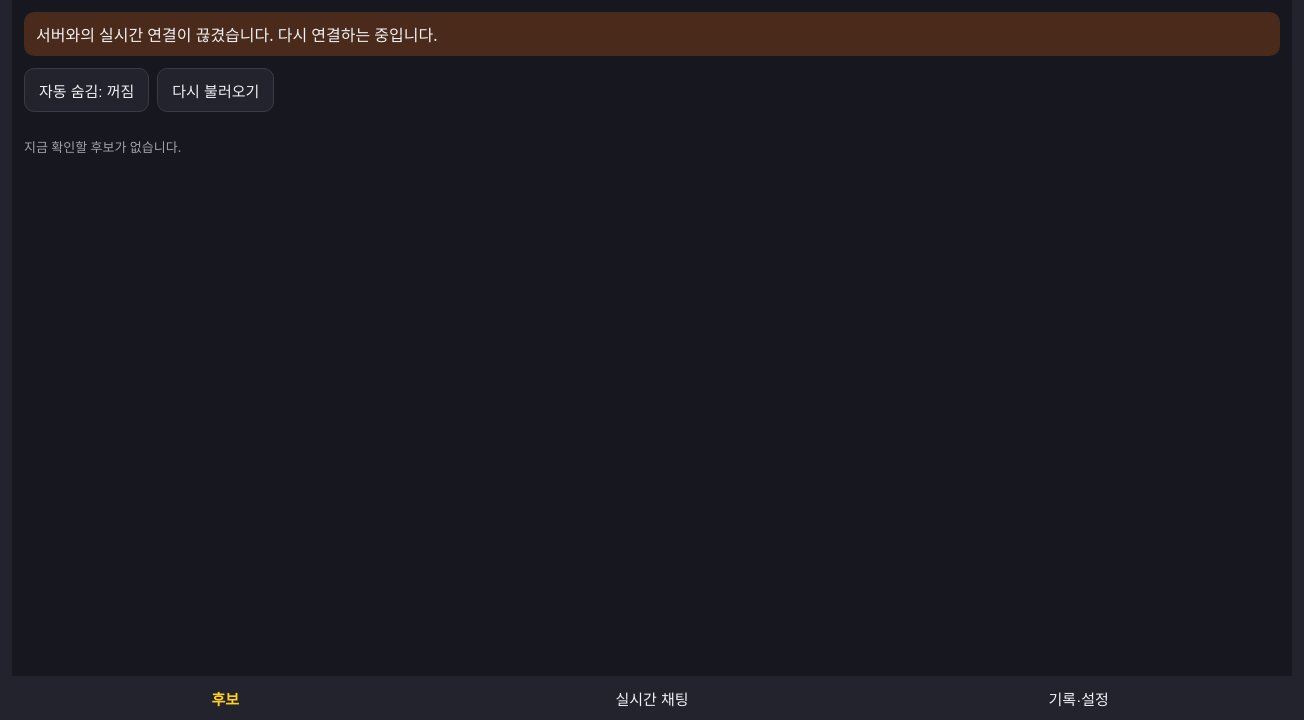
Test: App 자동 숨김 스위치 응답 반영(K17) › 스위치 요청이 실패하면 서버 상태를 다시 읽는다
Click the button "자동 숨김: 꺼짐": [87, 90] box left=24, top=68, right=149, bottom=112
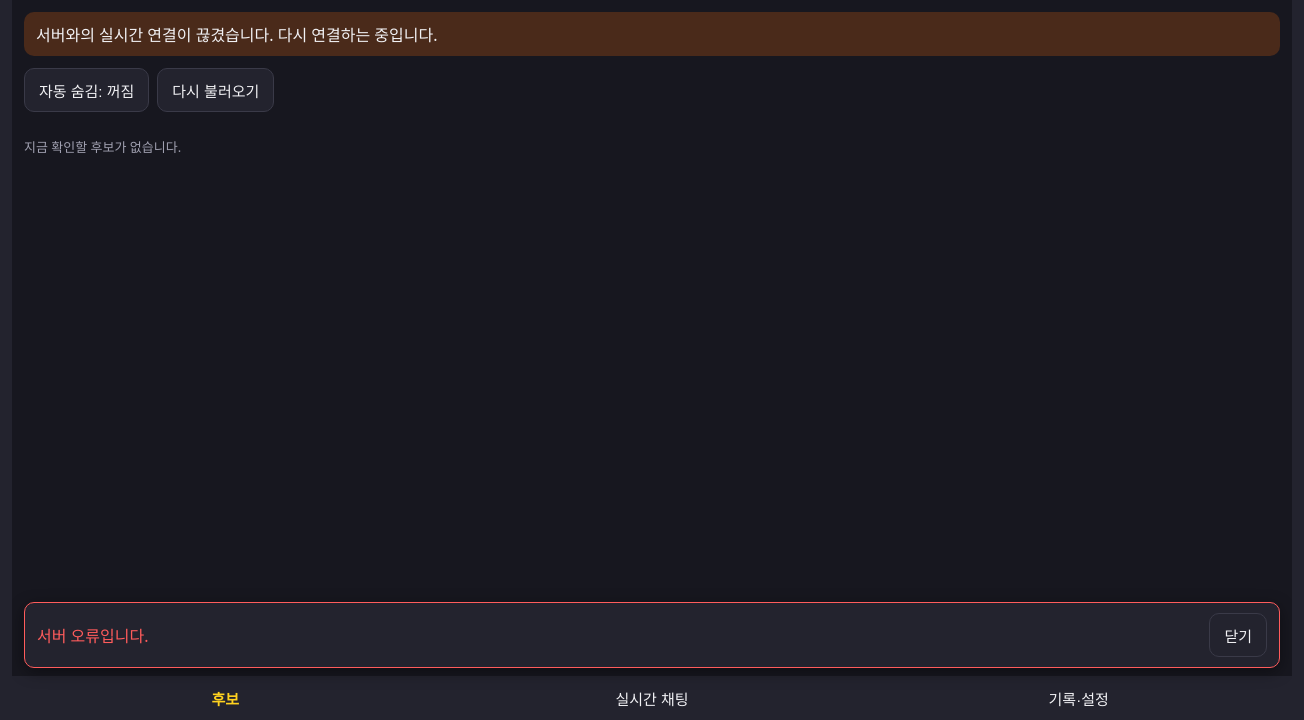
Result: the message "서버 오류입니다. 닫기" is shown at left=24, top=602, right=1280, bottom=668
